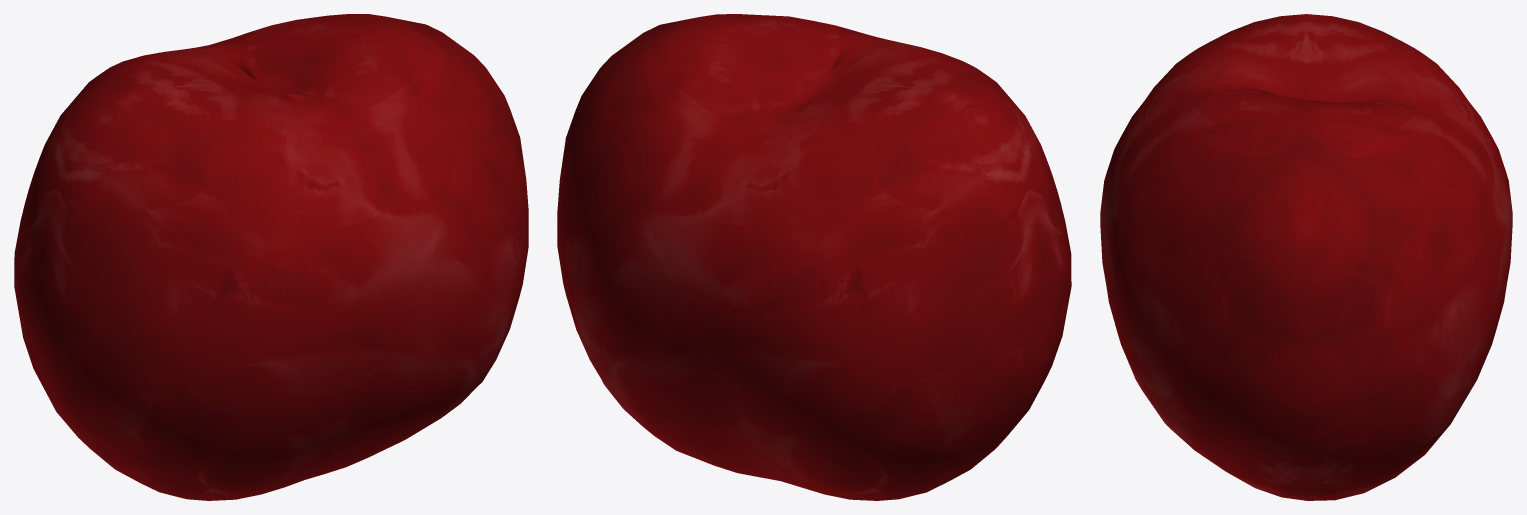
File: mCerise1.FBX
3 renders of one model, left to right at view 1: azimuth 30°, elevation 25°; view 2: azimuth 150°, elevation 25°; view 3: azimuth 270°, elevation 25°, orthographic. The views are drawn at different scales.
Parts seen in each view (by area): view 1: Cerise_Positif_01; view 2: Cerise_Positif_01; view 3: Cerise_Positif_01.
Boxes of the visible parts, x1,y1,x2,y2 form: Cerise_Positif_01: (14,14,528,500); Cerise_Positif_01: (557,14,1071,500); Cerise_Positif_01: (1100,14,1512,500).
Bounding box in the file's own units: 1.07 × 0.9213 × 0.8591.
